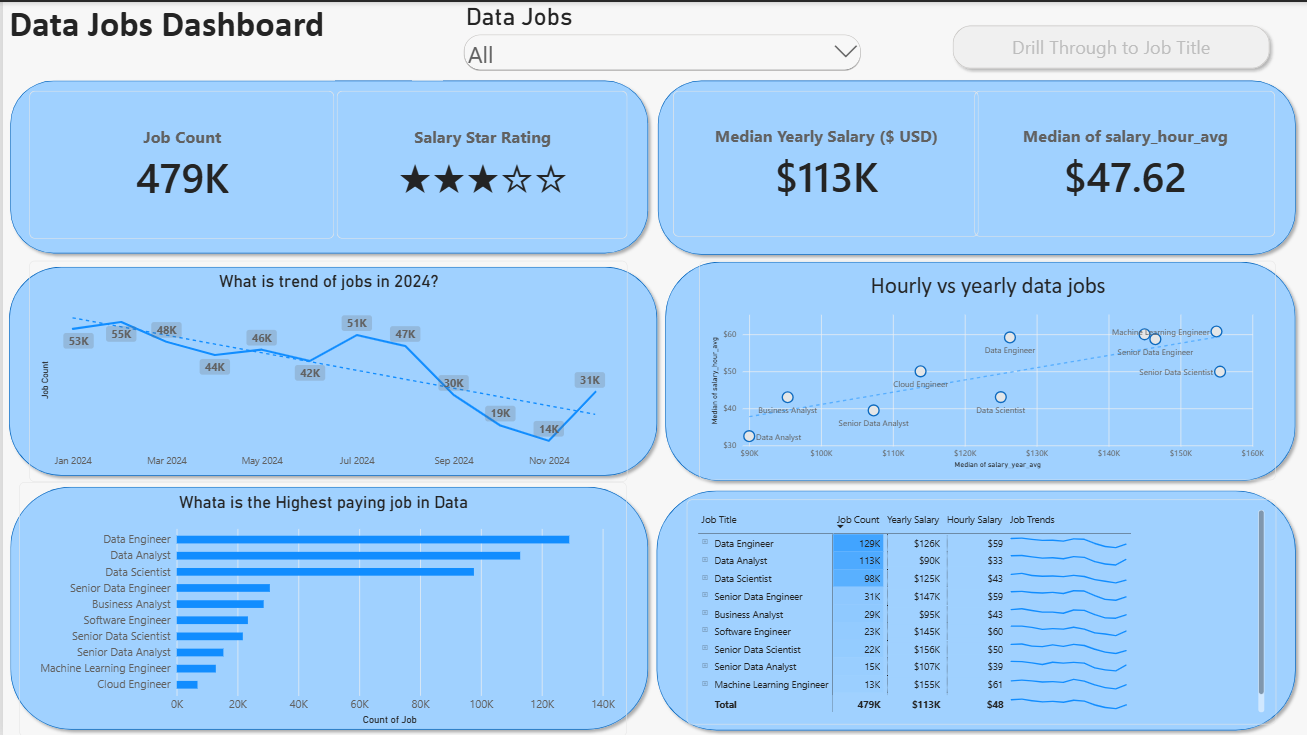

What the dashboard file says about the page in this screenshot:
{"tool":"powerbi","page":{"name":"Data Jobs Dahsboard","canvas":[1920,1080],"ordinal":0},"visuals":[{"type":"group","id":"g1","title":"Background","box":[0.2,106.6,1912.4,975.1],"z":0},{"type":"textbox","box":[9.2,0,638.7,81],"z":1000},{"type":"slicer","fields":{"Values":["job_postings_flat.job_title_short"]},"box":[673.6,0,594.5,130.7],"z":2000},{"type":"cardVisual","fields":{"Data":["CountNonNull(job_postings_flat.job_title_short)"]},"box":[38.1,131.3,449.1,218.8],"z":3000},{"type":"cardVisual","fields":{"Data":["job_postings_flat.Median of salary_year_avg star rating"]},"box":[490.9,131.3,428.1,218.8],"z":4000},{"type":"cardVisual","fields":{"Data":["Median(job_postings_flat.salary_year_avg)"]},"box":[985.7,131.3,451,215],"z":5000},{"type":"cardVisual","fields":{"Data":["Median(job_postings_flat.salary_hour_avg)"]},"box":[1431,131.3,443.4,215],"z":6000},{"type":"lineChart","title":"What is trend of jobs in 2024?","fields":{"Category":["job_postings_flat.job_posted_date.Variation.Date Hierarchy.Year","job_postings_flat.job_posted_date.Variation.Date Hierarchy.Quarter","job_postings_flat.job_posted_date.Variation.Date Hierarchy.Month","job_postings_flat.job_posted_date.Variation.Date Hierarchy.Day"],"Y":["CountNonNull(job_postings_flat.job_title_short)"]},"box":[38.1,380.6,881,325.4],"z":7000},{"type":"barChart","title":"Whata is the Highest paying job in Data","fields":{"Category":["job_postings_flat.job_title_short"],"Y":["CountNonNull(job_postings_flat.job_title_short)"]},"box":[24.7,706,894.4,374.9],"z":8000},{"type":"scatterChart","title":"Hourly vs yearly data jobs ","fields":{"Category":["job_postings_flat.job_title_short"],"X":["Median(job_postings_flat.salary_year_avg)"],"Y":["Median(job_postings_flat.salary_hour_avg)"]},"box":[1025.6,380.6,848.7,323.5],"z":9000},{"type":"shape","box":[1.9,106.6,957.1,272.4],"z":10000,"group":"g1"},{"type":"pivotTable","fields":{"Rows":["job_postings_flat.job_title_short","job_postings_flat.job_posted_date.Variation.Date Hierarchy.Quarter"],"Values":["CountNonNull(job_postings_flat.job_country)","Median(job_postings_flat.salary_year_avg)","Median(job_postings_flat.salary_hour_avg)","SparklineData(CountNonNull(job_postings_flat.job_title_short)_[job_postings_flat.job_posted_date.Variation.Date Hierarch"]},"box":[1006.6,732.6,867.7,331.1],"z":10000},{"type":"actionButton","title":"Drill Through to Job Title","box":[1389.6,25.8,484.1,81],"z":11000},{"type":"shape","box":[955.3,106.6,957.1,274.2],"z":11000,"group":"g1"},{"type":"shape","box":[0.2,381.4,972.4,325.4],"z":12000,"group":"g1"},{"type":"shape","box":[966.9,373.8,945.7,340.6],"z":13000,"group":"g1"},{"type":"shape","box":[1.9,704.8,957.1,375.5],"z":14000,"group":"g1"},{"type":"shape","box":[953.5,710.6,959,371.1],"z":15000,"group":"g1"}]}

Visuals, with their boxes in screenshot pixels (x1, y1, x2, y2), scaled from the page's 1920x1080 canvas onto the 1307x735 screenshot:
"Background" group: [left=0, top=73, right=1302, bottom=734]
textbox: [left=6, top=0, right=441, bottom=55]
slicer - job_postings_flat.job_title_short: [left=459, top=0, right=863, bottom=89]
cardVisual - CountNonNull(job_postings_flat.job_title_short): [left=26, top=89, right=332, bottom=238]
cardVisual - job_postings_flat.Median of salary_year_avg star rating: [left=334, top=89, right=626, bottom=238]
cardVisual - Median(job_postings_flat.salary_year_avg): [left=671, top=89, right=978, bottom=236]
cardVisual - Median(job_postings_flat.salary_hour_avg): [left=974, top=89, right=1276, bottom=236]
"What is trend of jobs in 2024?" lineChart: [left=26, top=259, right=626, bottom=480]
"Whata is the Highest paying job in Data" barChart: [left=17, top=480, right=626, bottom=734]
"Hourly vs yearly data jobs " scatterChart: [left=698, top=259, right=1276, bottom=479]
shape: [left=1, top=73, right=653, bottom=258]
pivotTable - job_postings_flat.job_title_short x job_postings_flat.job_posted_date.Variation.Date Hierarchy.Quarter: [left=685, top=499, right=1276, bottom=724]
"Drill Through to Job Title" actionButton: [left=946, top=18, right=1275, bottom=73]
shape: [left=650, top=73, right=1302, bottom=259]
shape: [left=0, top=260, right=662, bottom=481]
shape: [left=658, top=254, right=1302, bottom=486]
shape: [left=1, top=480, right=653, bottom=734]
shape: [left=649, top=484, right=1302, bottom=734]
